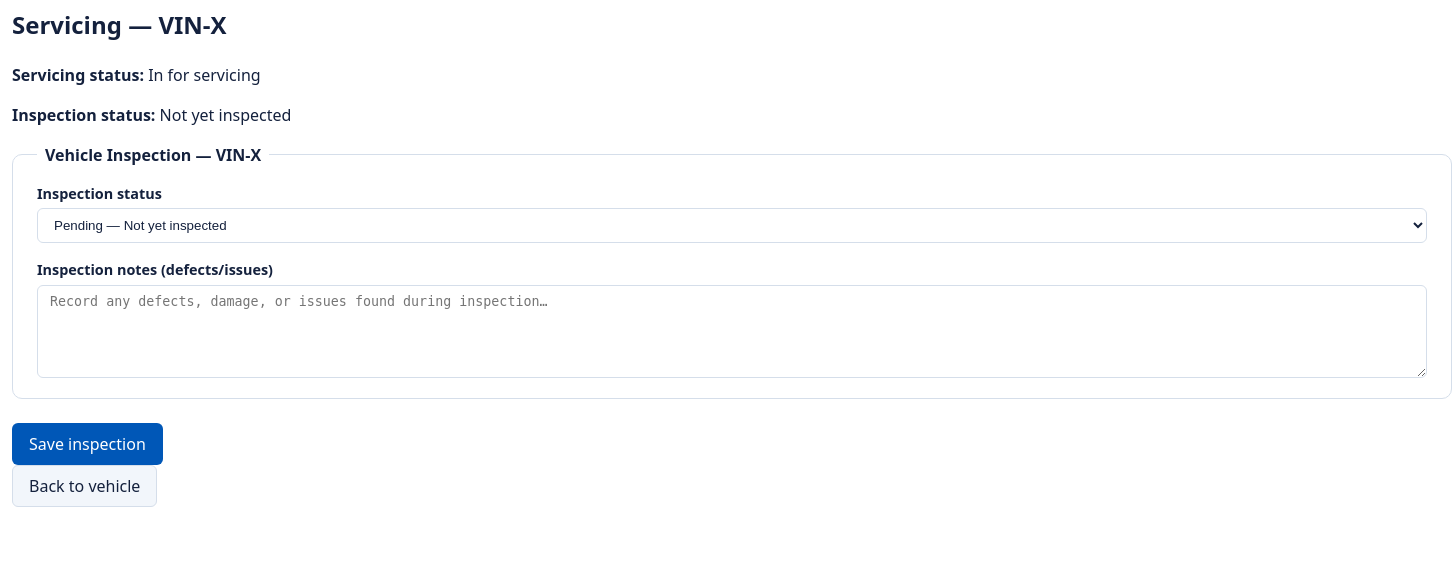
Test: saving an inspection does not send or change any other vehicle field
Step 1. Select "Passed — Ready for convoy" in the dropdown labelled "Inspection status" → (732, 226), box 37,208 -> 1427,243
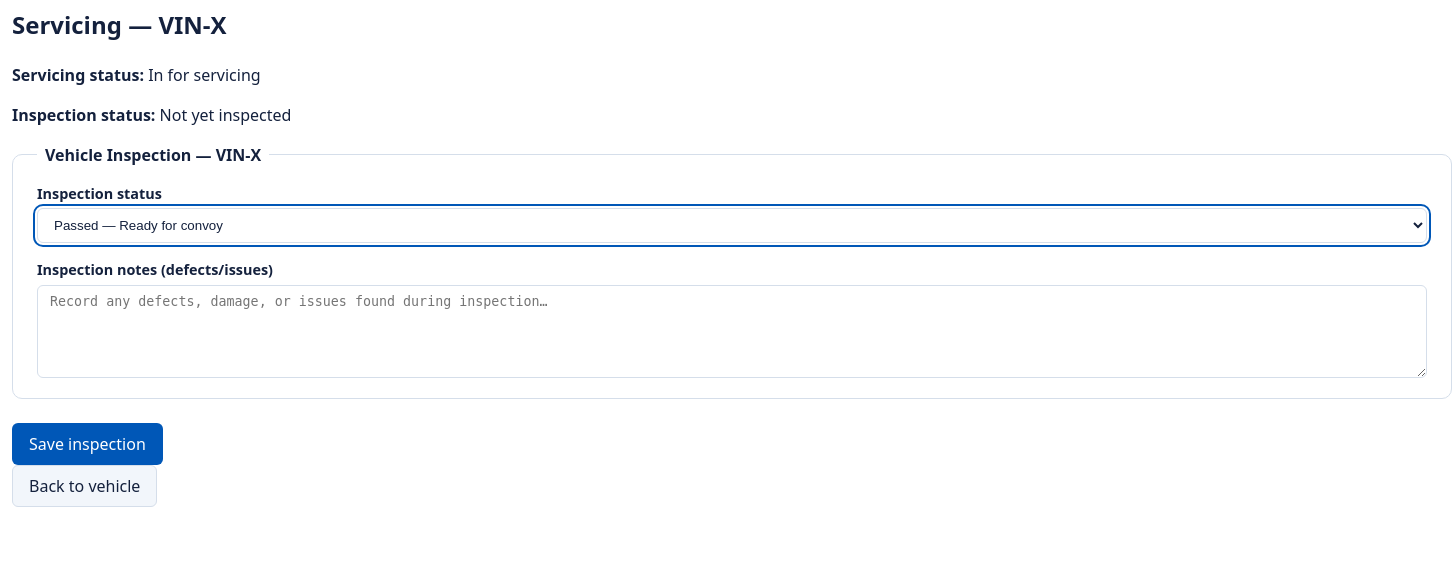
Step 2. Click the button "Save inspection" → (87, 444), box 12,423 -> 163,465
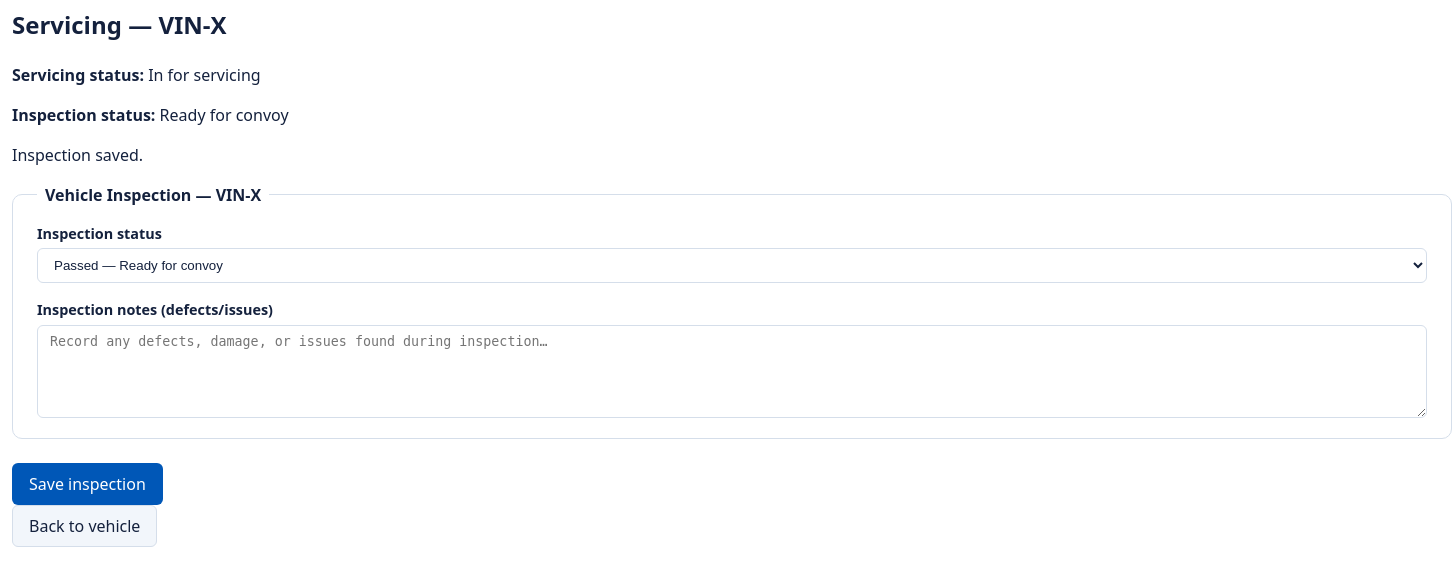
Result: the message "Inspection saved." is shown at 12,144 -> 143,166
